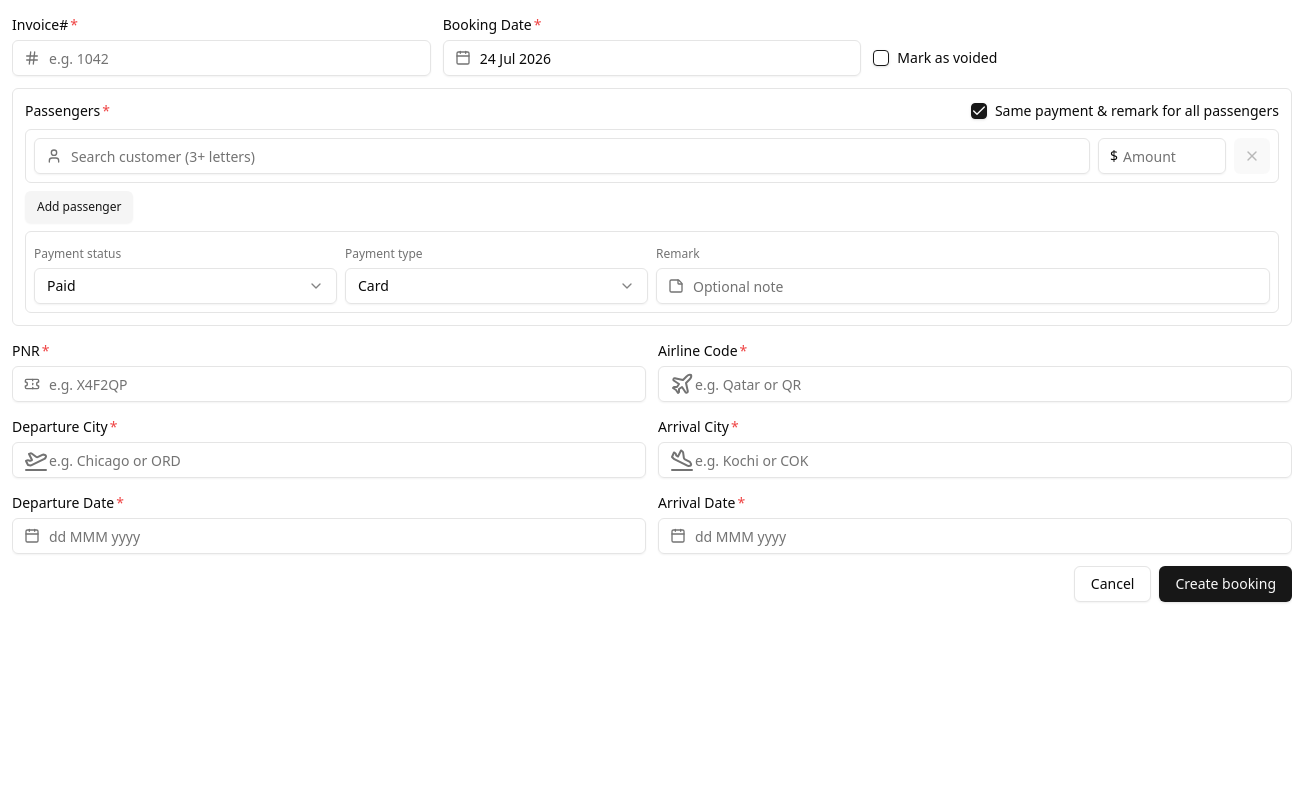
Test: BookingForm booking date › lists customers as LastName/GivenName with a DOB subtext
The width and height of the screenshot is (1304, 812).
In the dropdown named "Passenger name": (562, 156) x1=34 y1=138 x2=1090 y2=174, type "Jane"
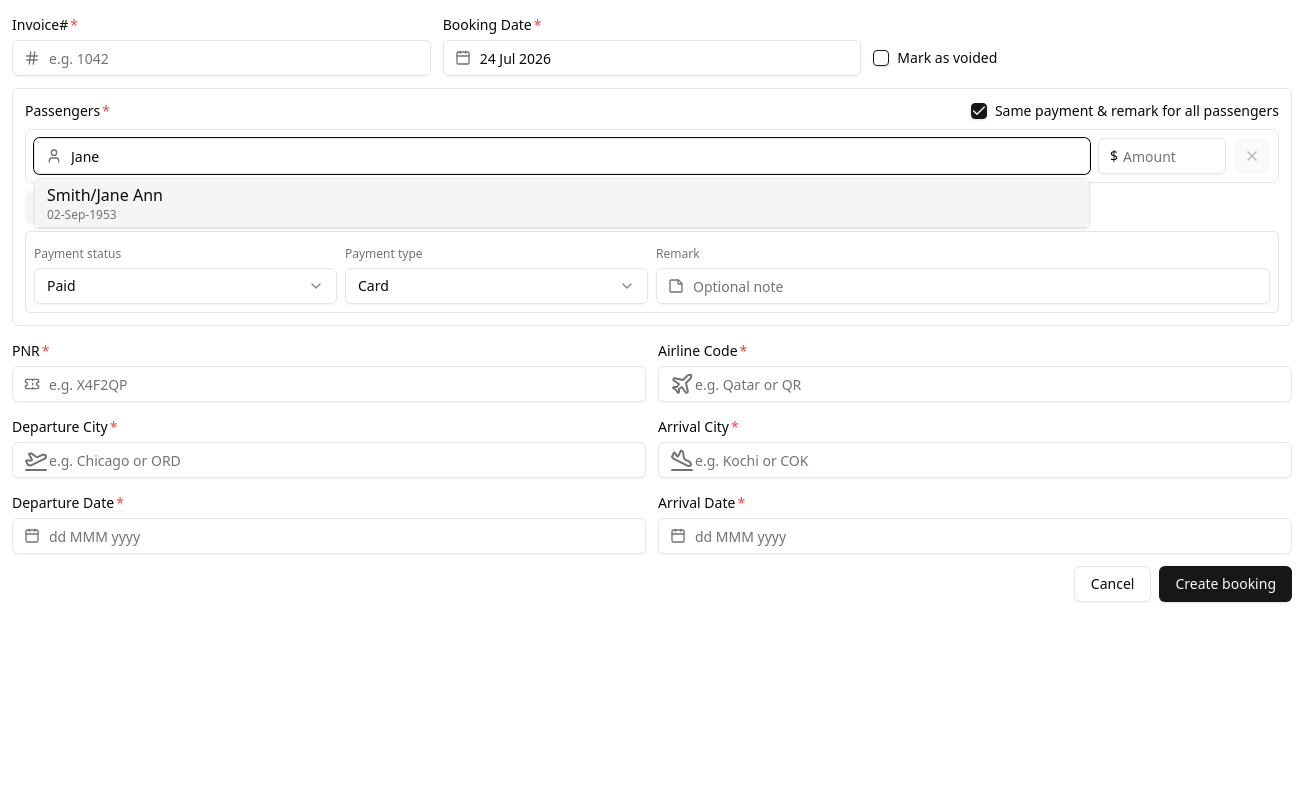
Result: the text "Smith/Jane Ann" is shown at x1=47 y1=184 x2=163 y2=206
Result: the text "02-Sep-1953" is shown at x1=47 y1=206 x2=117 y2=223
